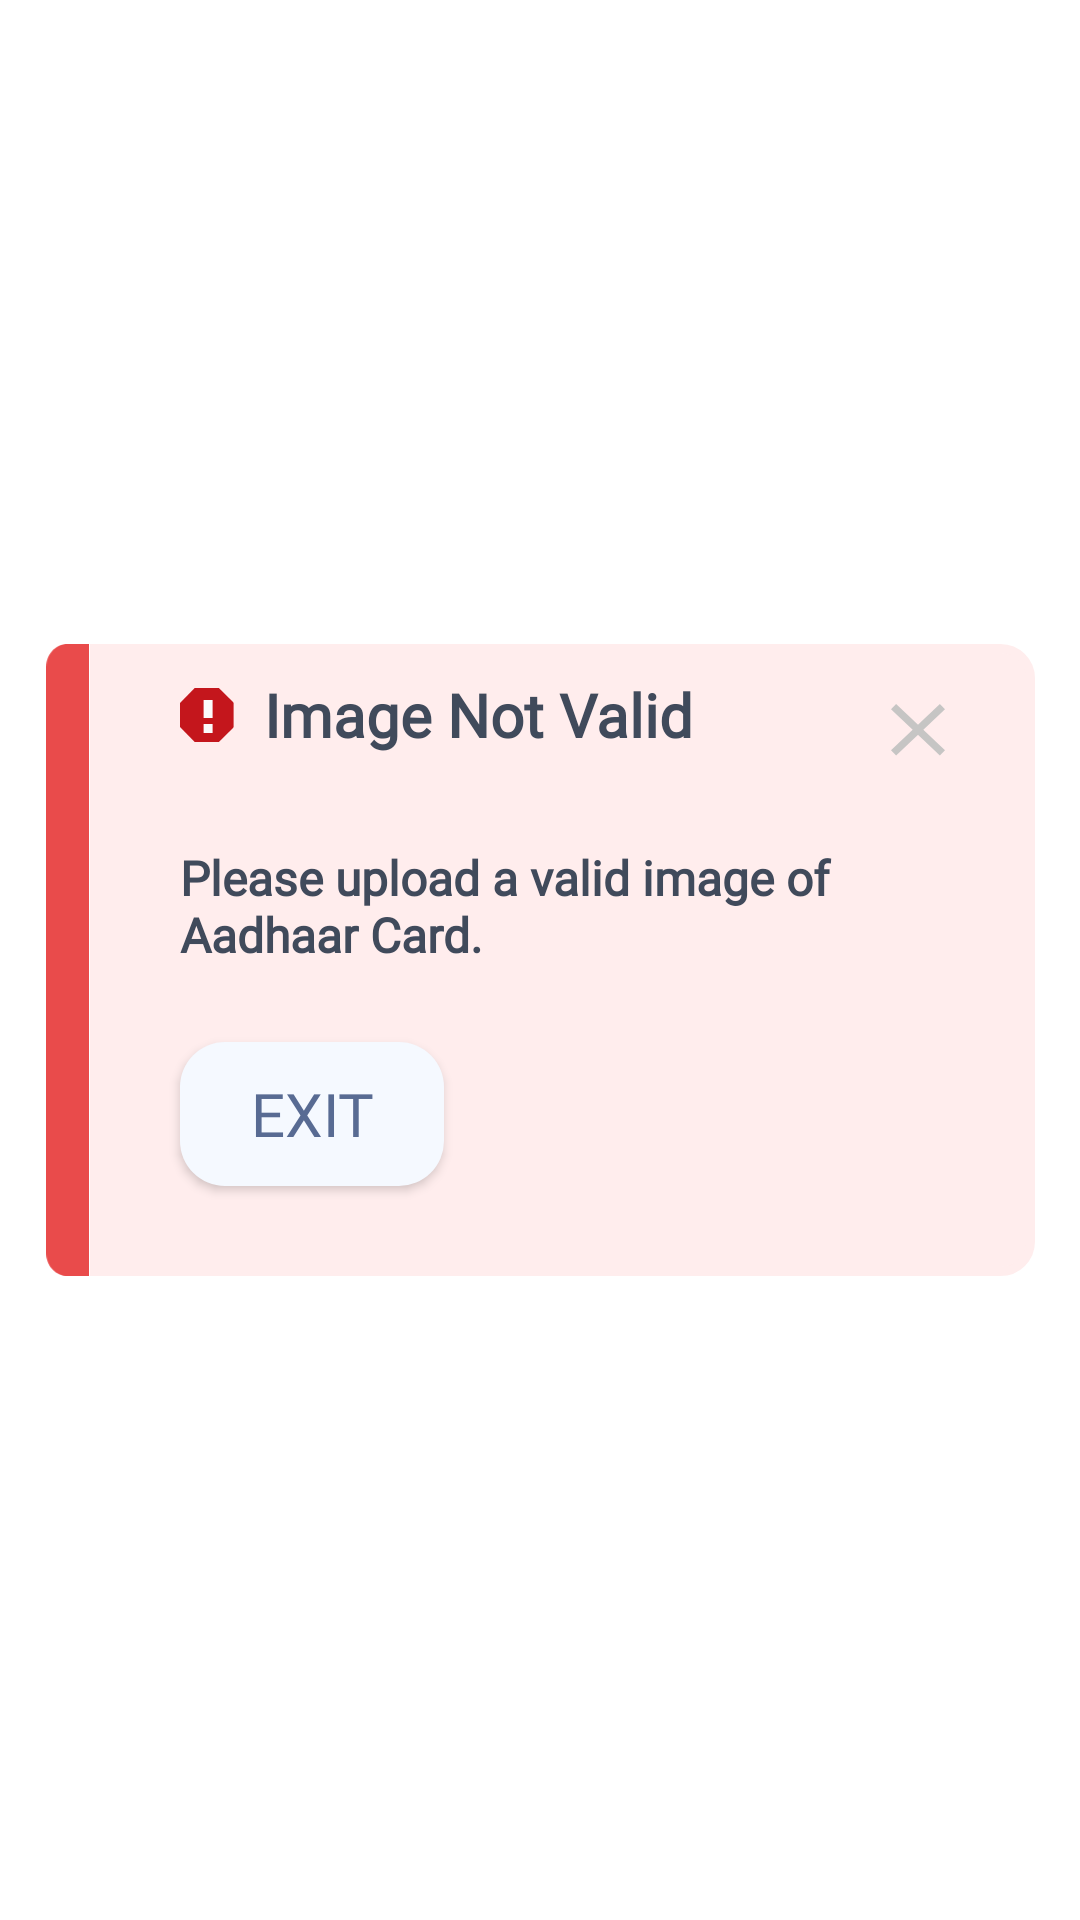

Icon click points for this 1080px x 1920px phone screenshot, format (x=x, y=y):
close: (x=918, y=729)
